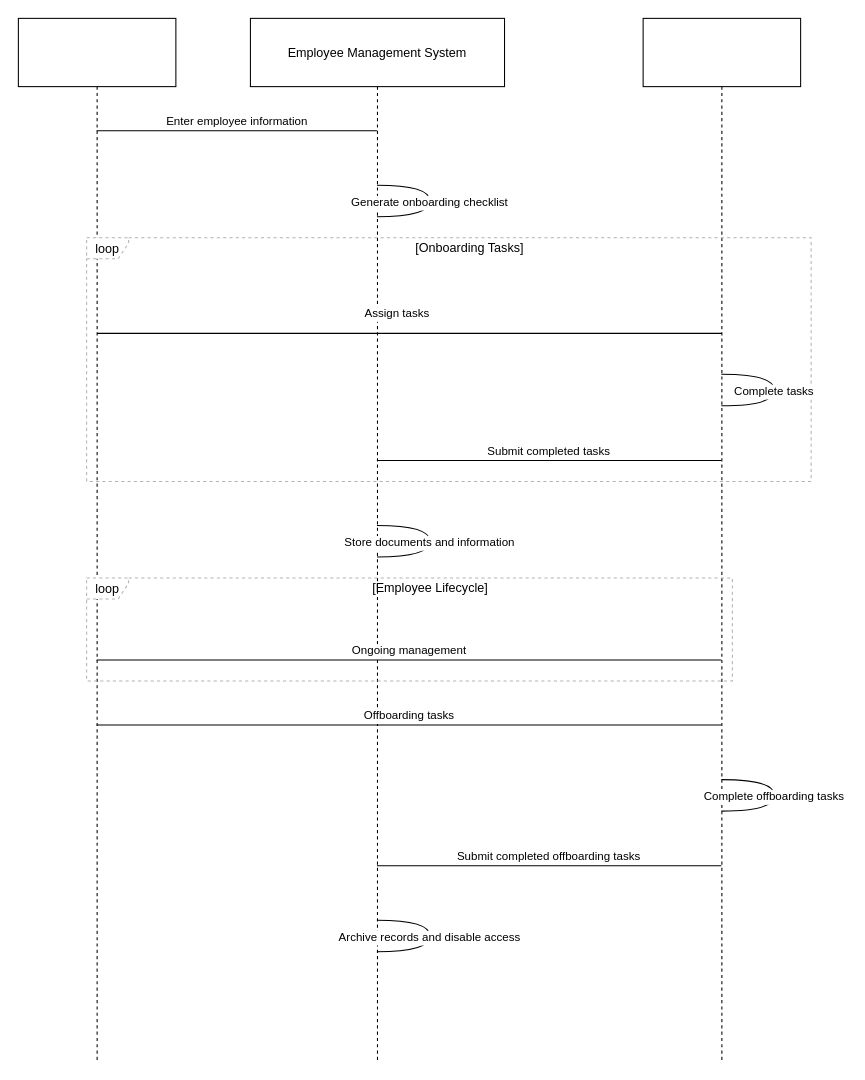
Some shapes in this 865 by 1080 pixel diagram are drawn without their labels. The box of each missing label's shape, as (x1, y1, x2, y2) in pixels:
HR Department: (17, 17, 176, 1062)
New Employee: (642, 17, 801, 1062)
